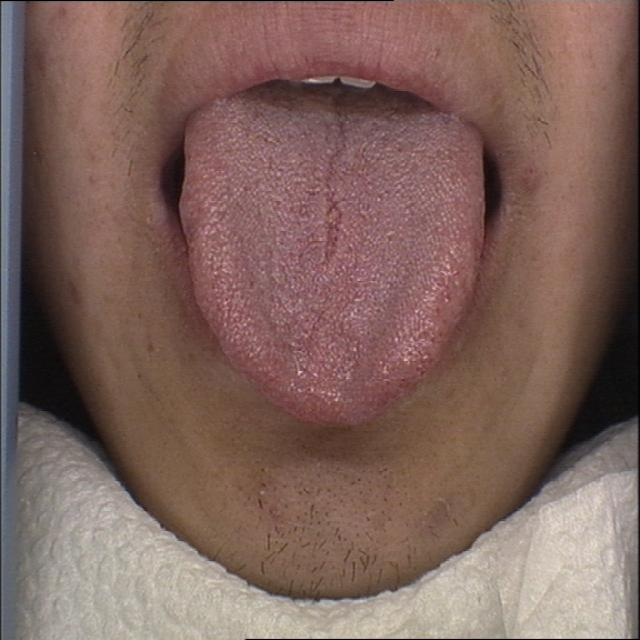tongue: (173, 95, 491, 429)
